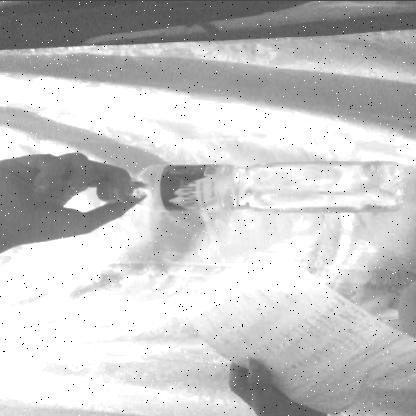Plastic Bottle: (90, 144, 416, 227)
